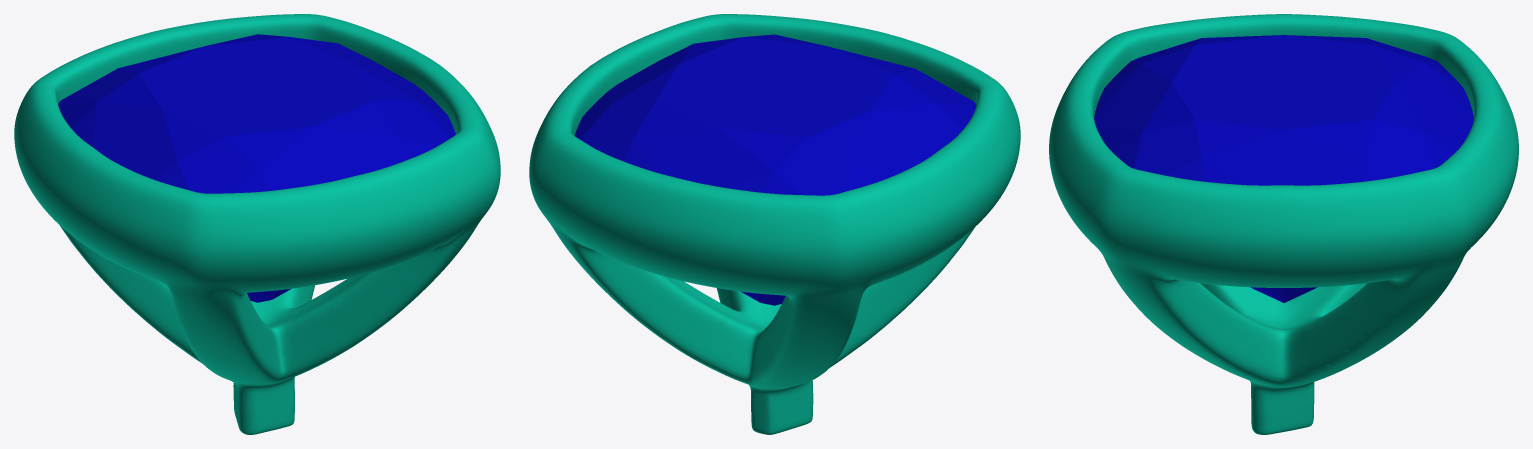
The model's file is Cushion Square.glb.
The picture shows the model from 3 angles, left to right: view 1: azimuth 30°, elevation 25°; view 2: azimuth 150°, elevation 25°; view 3: azimuth 270°, elevation 25°; orthographic projection. The views are drawn at different scales.
Parts seen in each view (by area): view 1: /GSMOD388300- BEZEL_Cushion Square_IJ.3dm, Diamond_Cushion Square; view 2: /GSMOD388300- BEZEL_Cushion Square_IJ.3dm, Diamond_Cushion Square; view 3: /GSMOD388300- BEZEL_Cushion Square_IJ.3dm, Diamond_Cushion Square.
Part boxes in pixels (left/top/right/bottom): /GSMOD388300- BEZEL_Cushion Square_IJ.3dm: left=14, top=14, right=500, bottom=434; Diamond_Cushion Square: left=58, top=34, right=455, bottom=302; /GSMOD388300- BEZEL_Cushion Square_IJ.3dm: left=529, top=14, right=1020, bottom=434; Diamond_Cushion Square: left=574, top=34, right=976, bottom=305; /GSMOD388300- BEZEL_Cushion Square_IJ.3dm: left=1049, top=14, right=1518, bottom=434; Diamond_Cushion Square: left=1094, top=35, right=1473, bottom=302.
Size of the model in its own units: 7.87 by 6.31 by 7.87.
